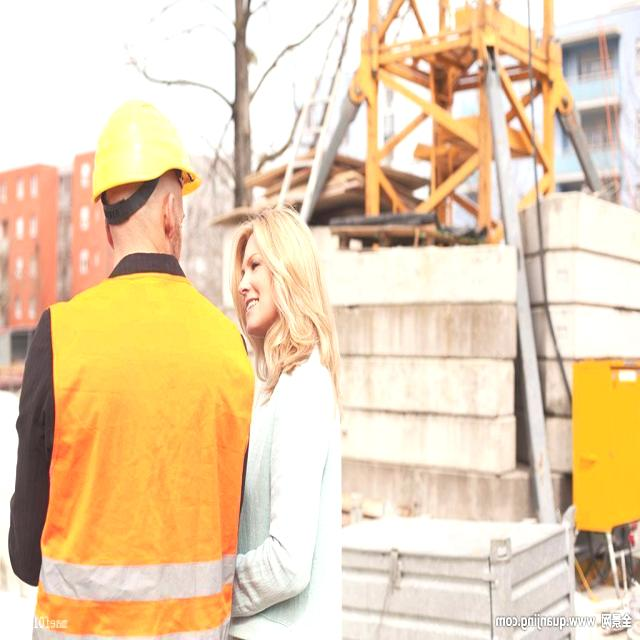face_nomask: (237, 238, 284, 336)
head_helmet: (87, 98, 203, 208)
head_nohelmet: (232, 181, 320, 265)
person: (11, 99, 254, 640), (228, 203, 343, 638)
vest: (30, 294, 248, 639)
